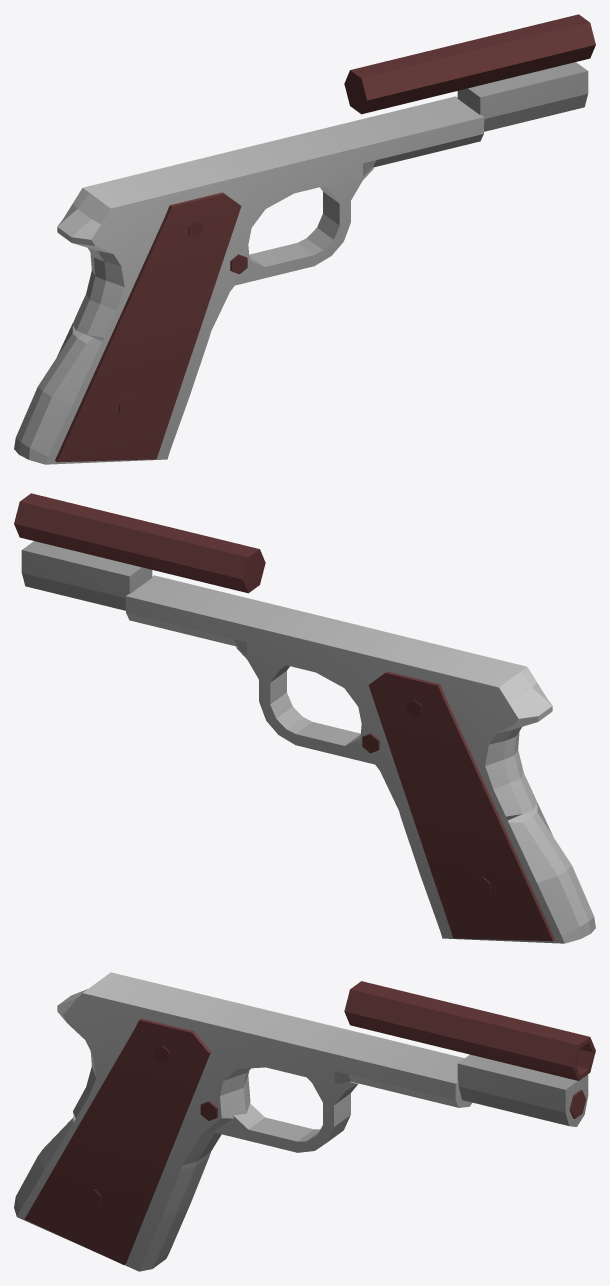
File: Pistol2_06.fbx
3 views of the same model, one above another, from view 1: azimuth 30°, elevation 25°; view 2: azimuth 150°, elevation 25°; view 3: azimuth 330°, elevation 25° (orthographic).
Visible parts, largest first — view 1: Pistol2_06; view 2: Pistol2_06; view 3: Pistol2_06.
Part boxes in pixels (x1,y1,x2,y2): Pistol2_06: (14, 14, 595, 464); Pistol2_06: (14, 493, 595, 943); Pistol2_06: (14, 972, 595, 1271).
Size of the model in its own units: 0.2643 by 0.1459 by 0.0274.
